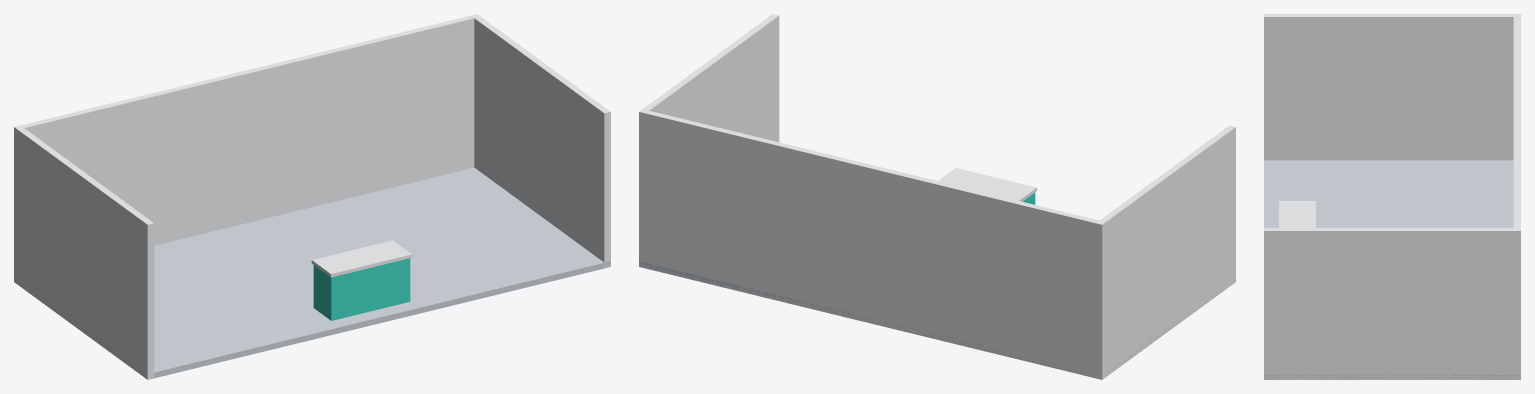
The picture shows the model from 3 angles, left to right: view 1: azimuth 30°, elevation 25°; view 2: azimuth 150°, elevation 25°; view 3: azimuth 270°, elevation 25°; orthographic projection. The views are drawn at different scales.
Parts seen in each view (by area): view 1: Exhibition Booth Concept; view 2: Exhibition Booth Concept; view 3: Exhibition Booth Concept.
Boxes of the visible parts, <box> form: Exhibition Booth Concept: <box>14,14,610,379</box>; Exhibition Booth Concept: <box>639,14,1235,379</box>; Exhibition Booth Concept: <box>1264,14,1520,379</box>.
Bounding box in the file's own units: 10 × 3.2 × 5.
